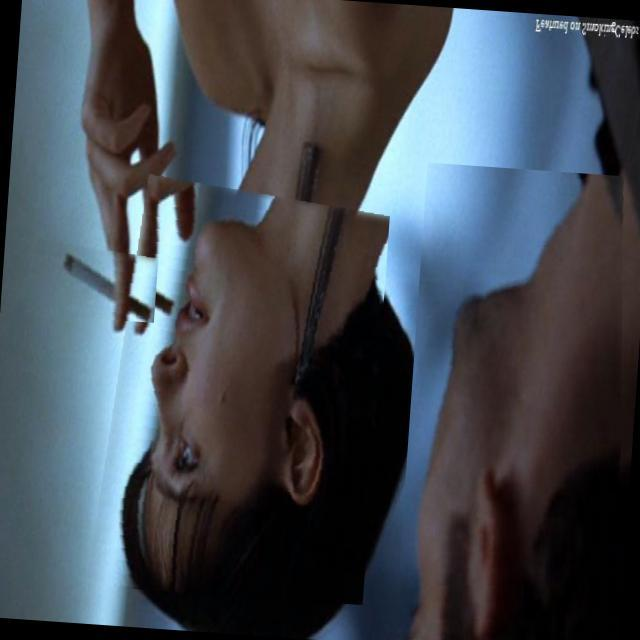cigarette: (24, 238, 158, 323)
